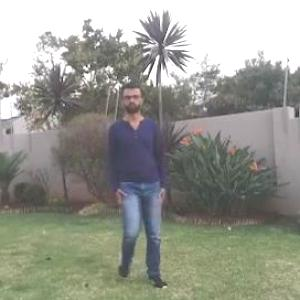follow: (114, 89, 166, 266)
